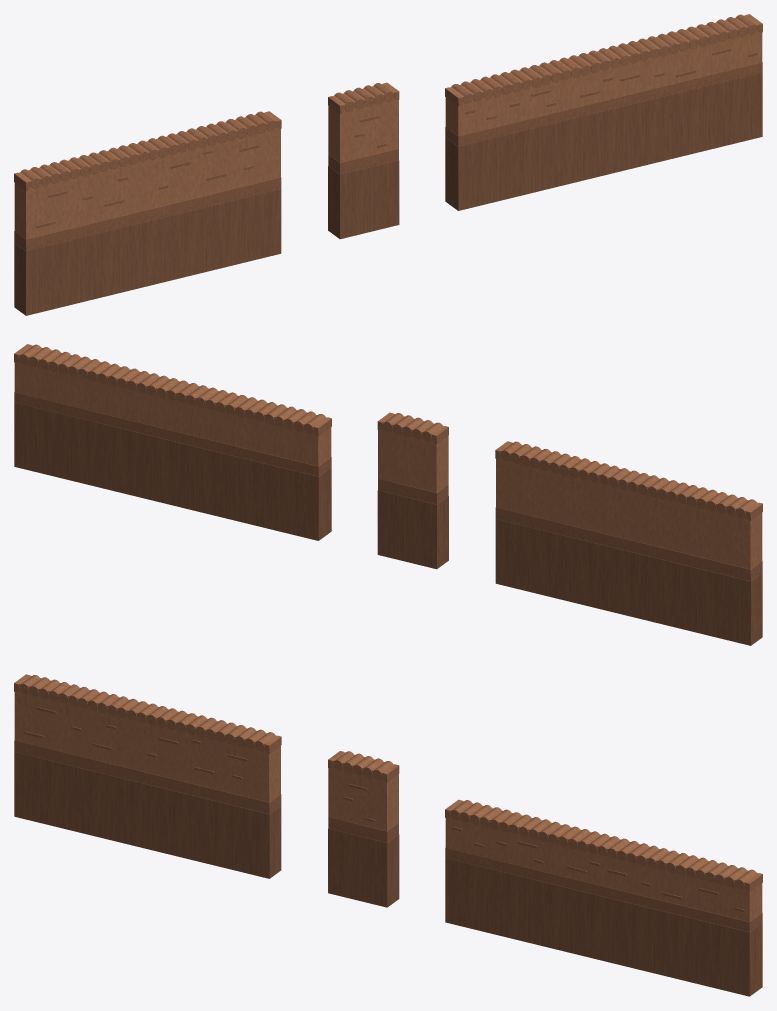
The model's file is grond_level4.glb.
The picture shows the model from 3 angles, top to bottom: view 1: azimuth 30°, elevation 25°; view 2: azimuth 150°, elevation 25°; view 3: azimuth 330°, elevation 25°; orthographic projection.
Parts seen in each view (by area): view 1: grond_L4_03, grond_L4_01, grond_L4_02; view 2: grond_L4_03, grond_L4_01, grond_L4_02; view 3: grond_L4_03, grond_L4_01, grond_L4_02.
Boxes of the visible parts, x1,y1,x2,y2 form: grond_L4_03: (445, 14, 762, 210); grond_L4_01: (14, 111, 281, 315); grond_L4_02: (328, 82, 399, 239); grond_L4_03: (14, 344, 331, 540); grond_L4_01: (495, 441, 762, 645); grond_L4_02: (377, 412, 448, 569); grond_L4_03: (445, 799, 762, 996); grond_L4_01: (14, 674, 281, 878); grond_L4_02: (328, 751, 399, 907).
Size of the model in its own units: 45.03 by 7.92 by 1.44.
4 materials, 4 textured.
